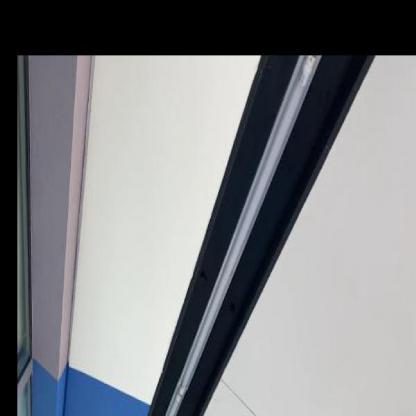light_off: (134, 57, 330, 414)
